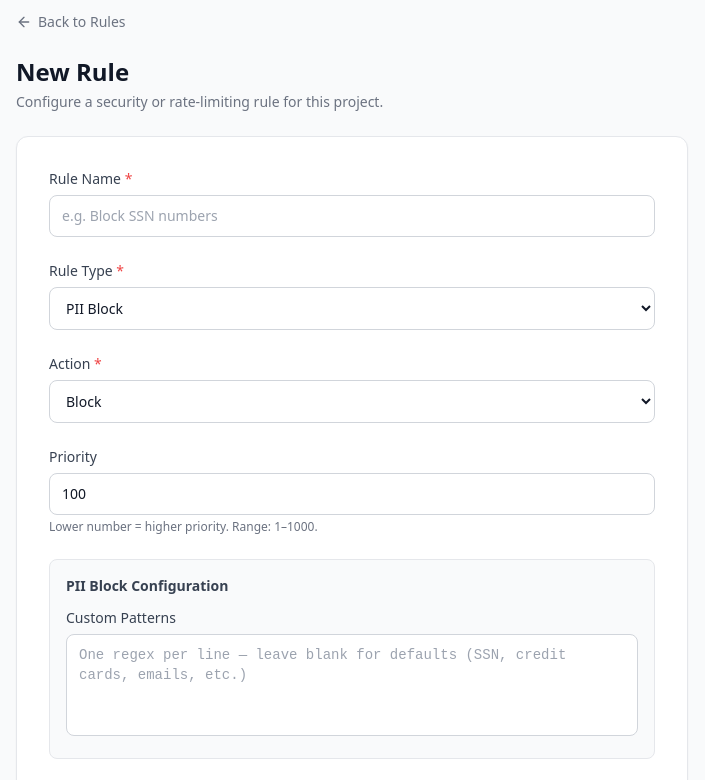
Test: RuleBuilderPage › shows rate limit fields when rate_limit selected
Select "Rate Limit" in the dropdown labelled "Rule Type *" at point(352, 308), box [49,287,655,330]
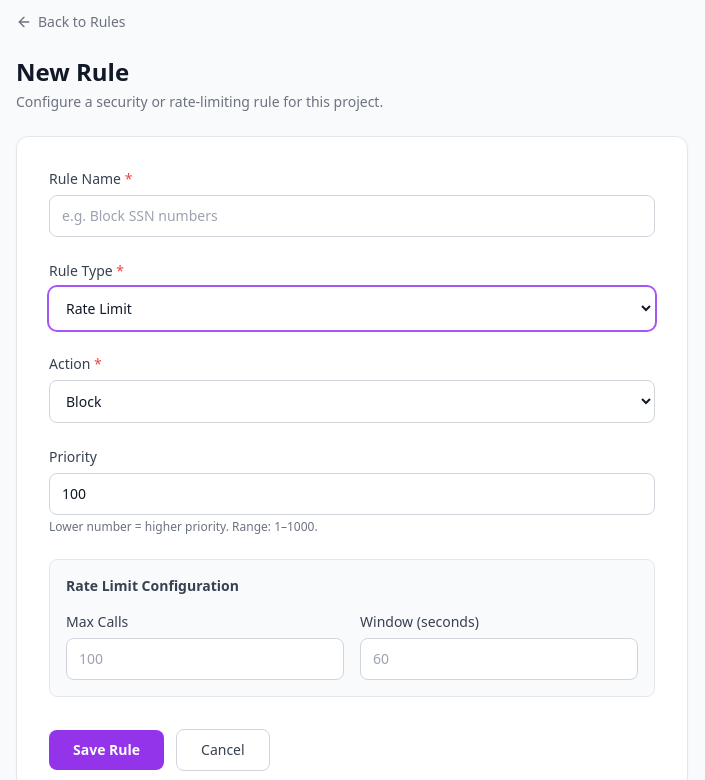
Expected: the number field labelled "Max Calls" is shown, [66,638,344,680]
Expected: the number field labelled "Window (seconds)" is shown, [360,638,638,680]
